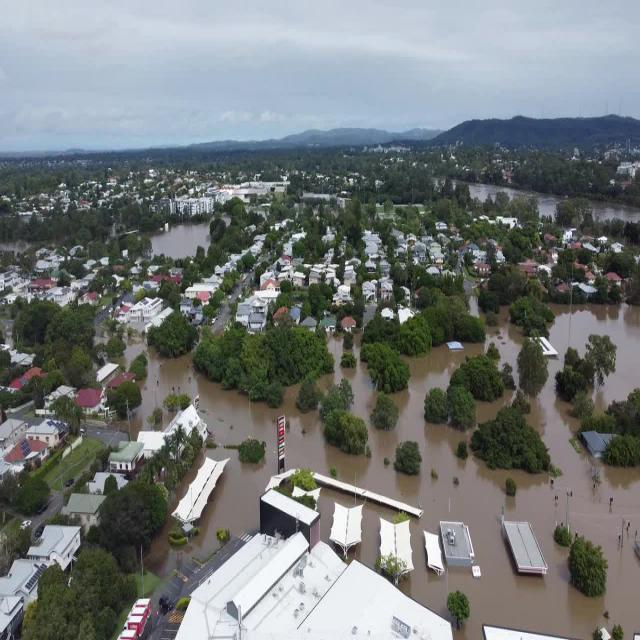flood: (406, 299, 640, 640), (140, 345, 485, 546), (412, 422, 571, 575), (469, 184, 563, 216), (153, 225, 208, 259), (487, 314, 521, 369), (590, 202, 640, 222)
house: (157, 536, 460, 640), (0, 528, 77, 640), (111, 436, 149, 480), (238, 294, 271, 336), (67, 492, 104, 528), (127, 295, 160, 329), (74, 385, 106, 416), (26, 424, 58, 452)
